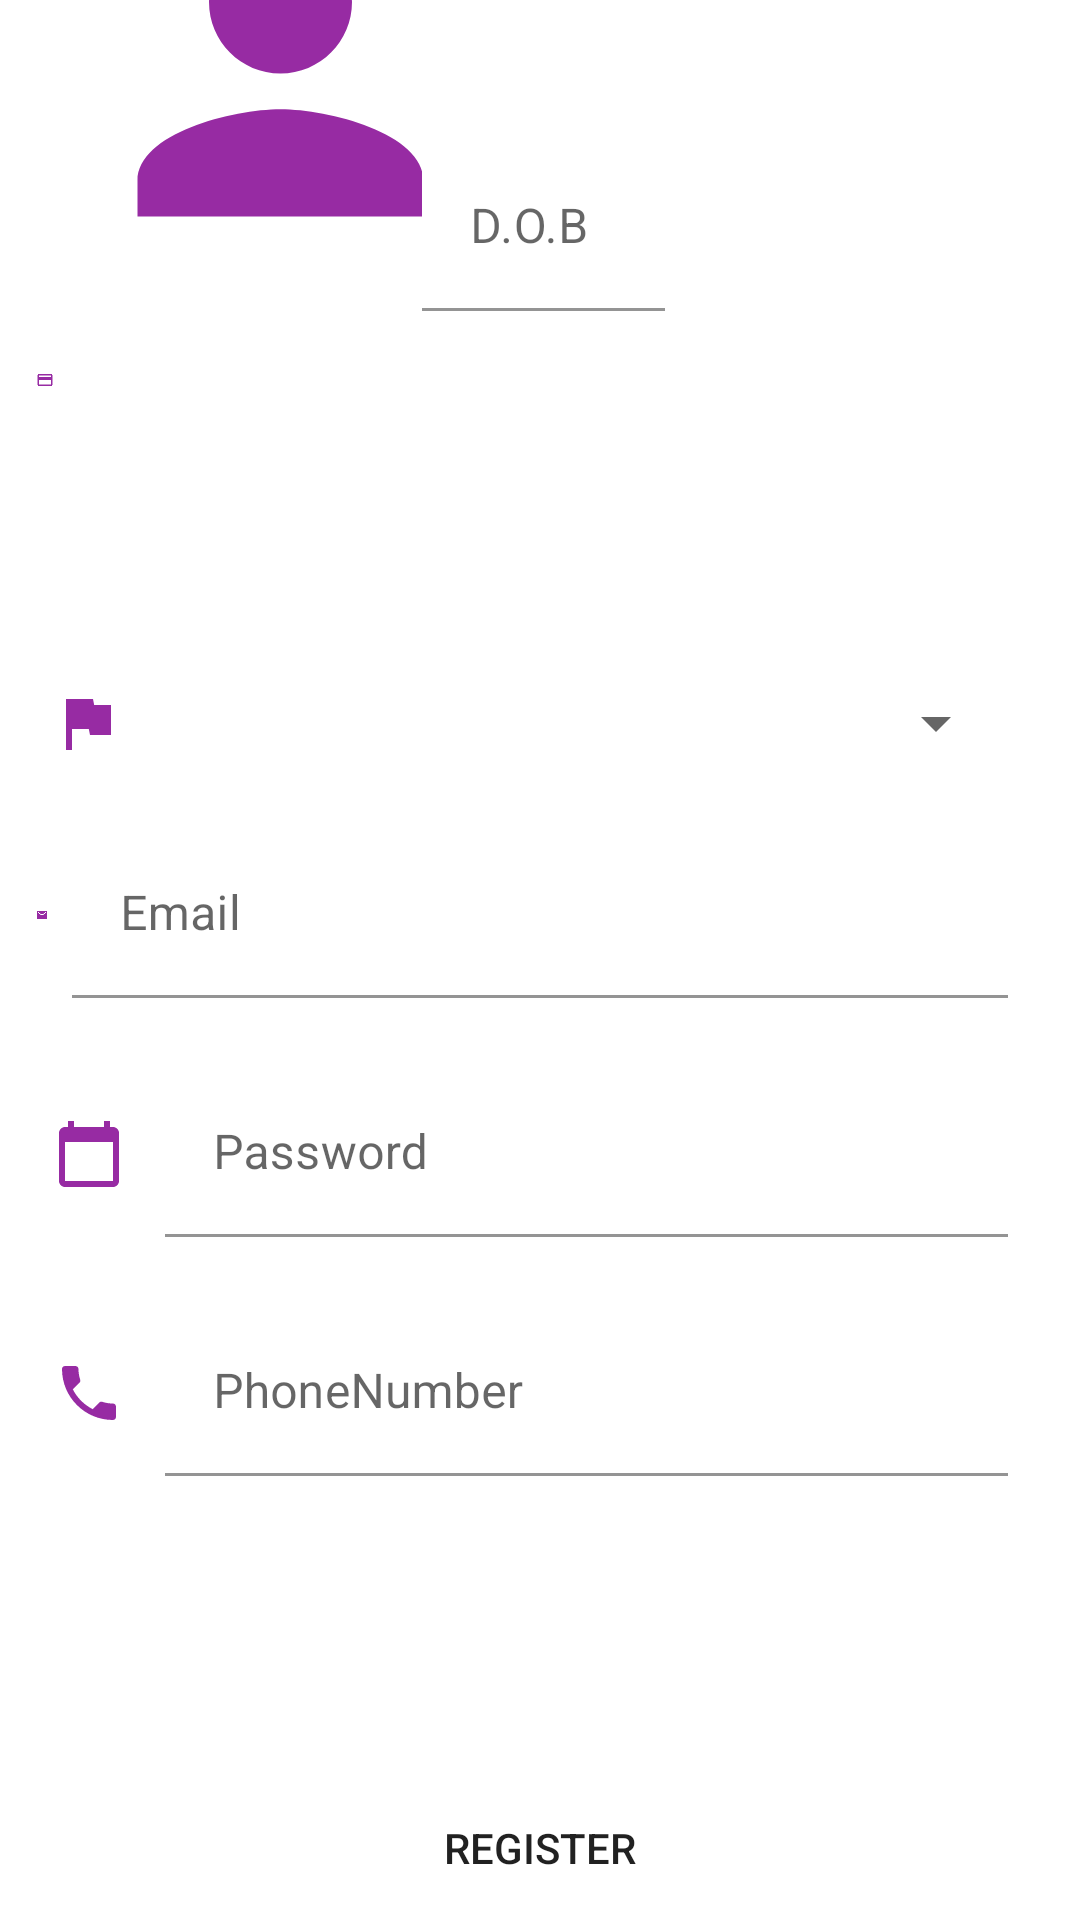

Icons on this 1080px x 1920px Android screen, each with its box as [left=x1, top=y1, right=x2, bottom=y2]:
calendar today: [left=59, top=1121, right=119, bottom=1187]
flag: [left=66, top=699, right=111, bottom=750]
